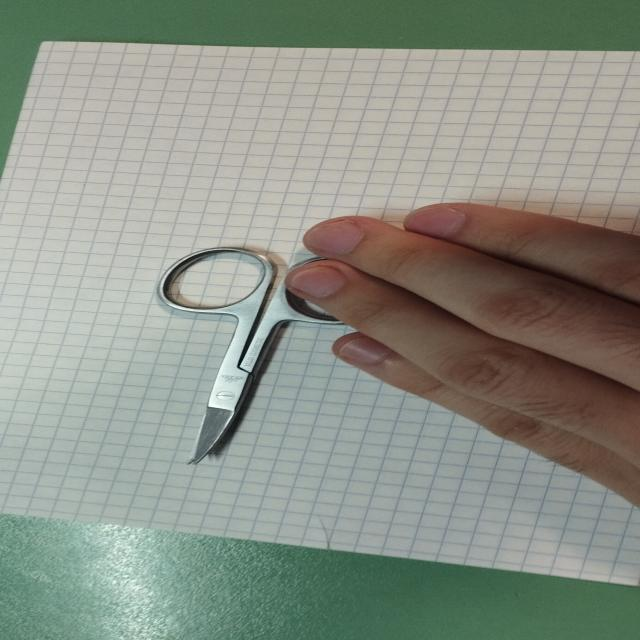tesoura: (151, 242, 387, 467)
